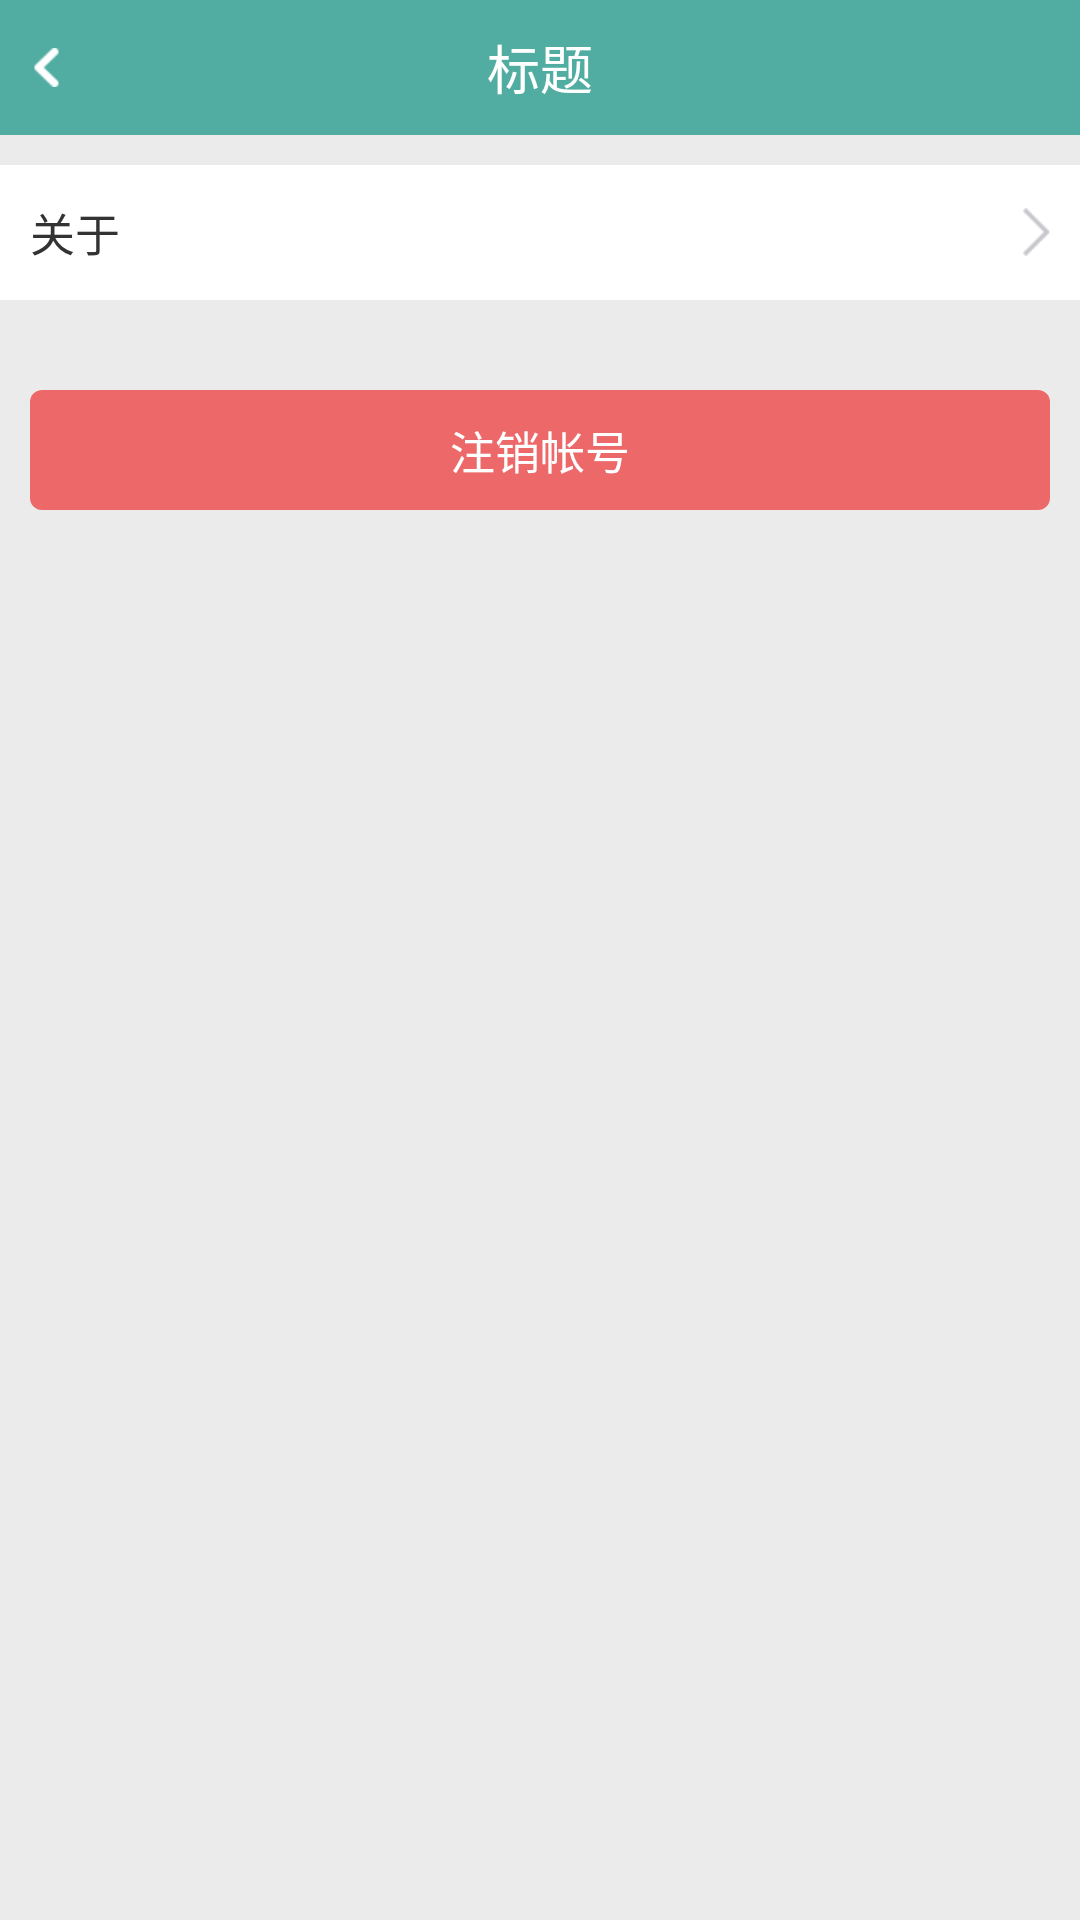

Where icons sit on this 1080 × 1920 app screen, as (x1, y1, x2, y2):
back index: (34, 48, 59, 87)
